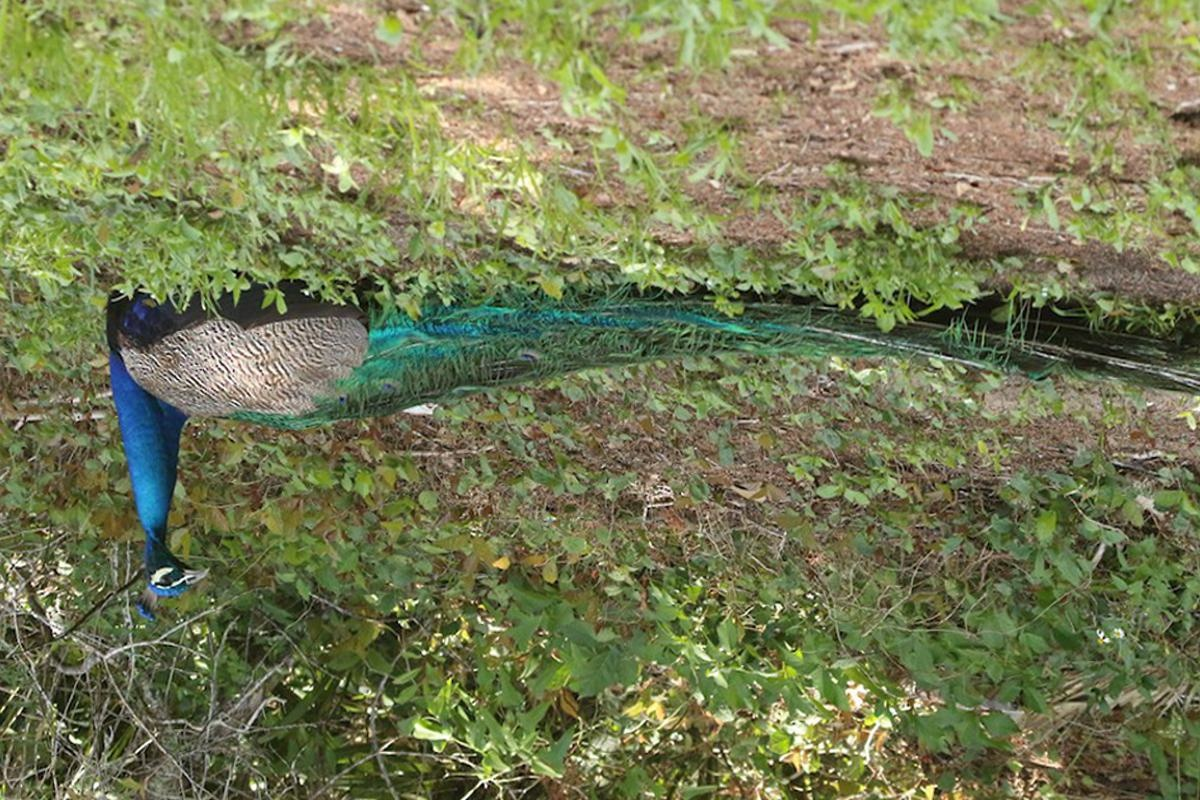peacock: (110, 230, 1200, 643)
